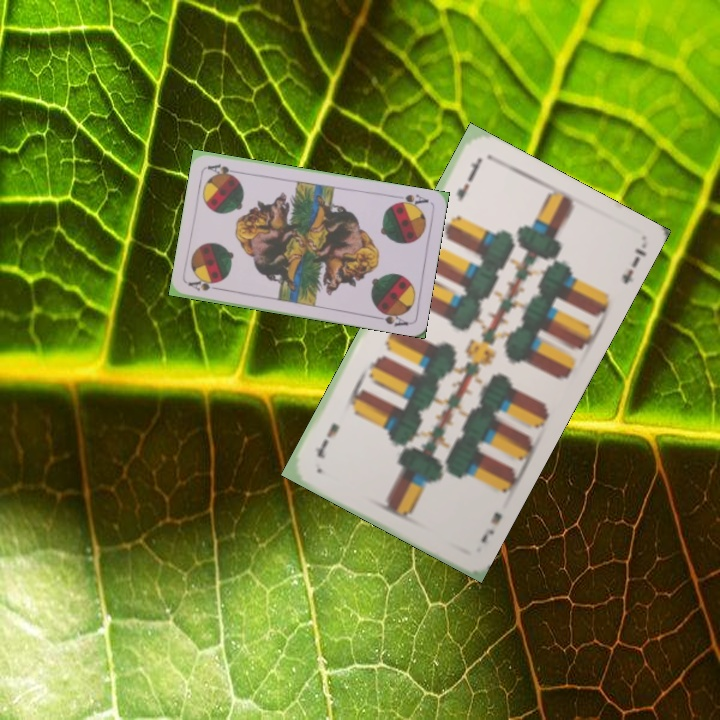E7: (452, 155, 484, 204), (476, 508, 505, 546)
SA: (390, 190, 431, 211), (185, 276, 225, 294)
